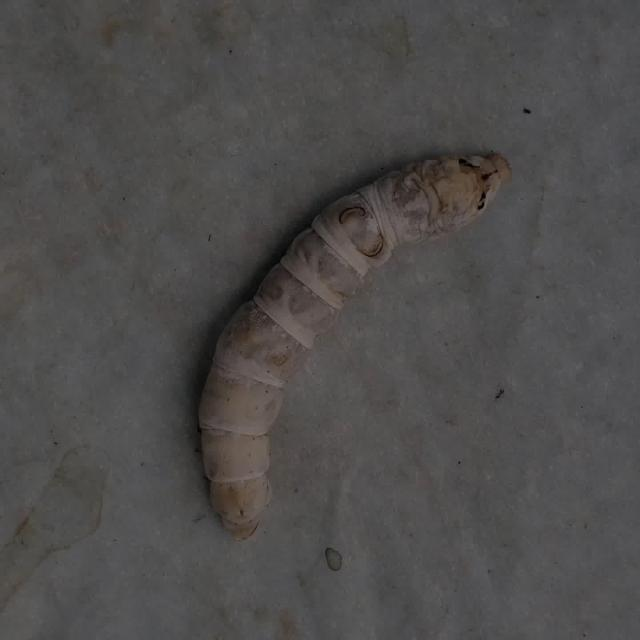Grasserie: (145, 109, 533, 573)
